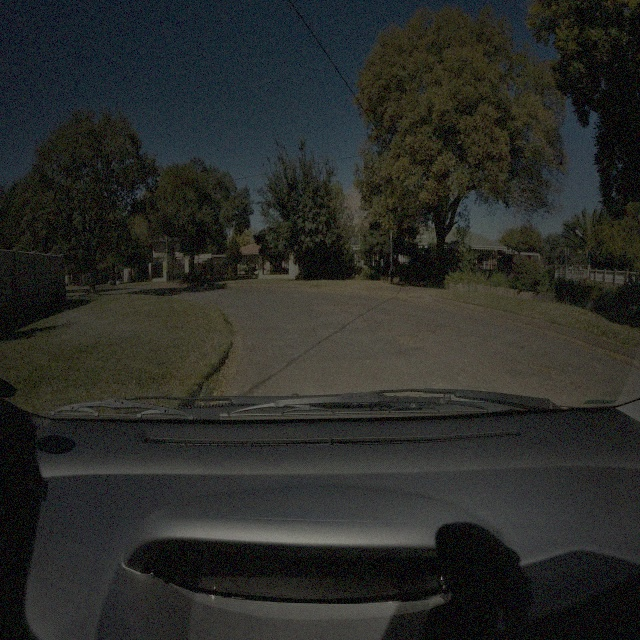pothole: (528, 359, 566, 381), (392, 334, 420, 346), (438, 322, 462, 332), (330, 302, 354, 311), (422, 329, 436, 336), (364, 318, 373, 324)
